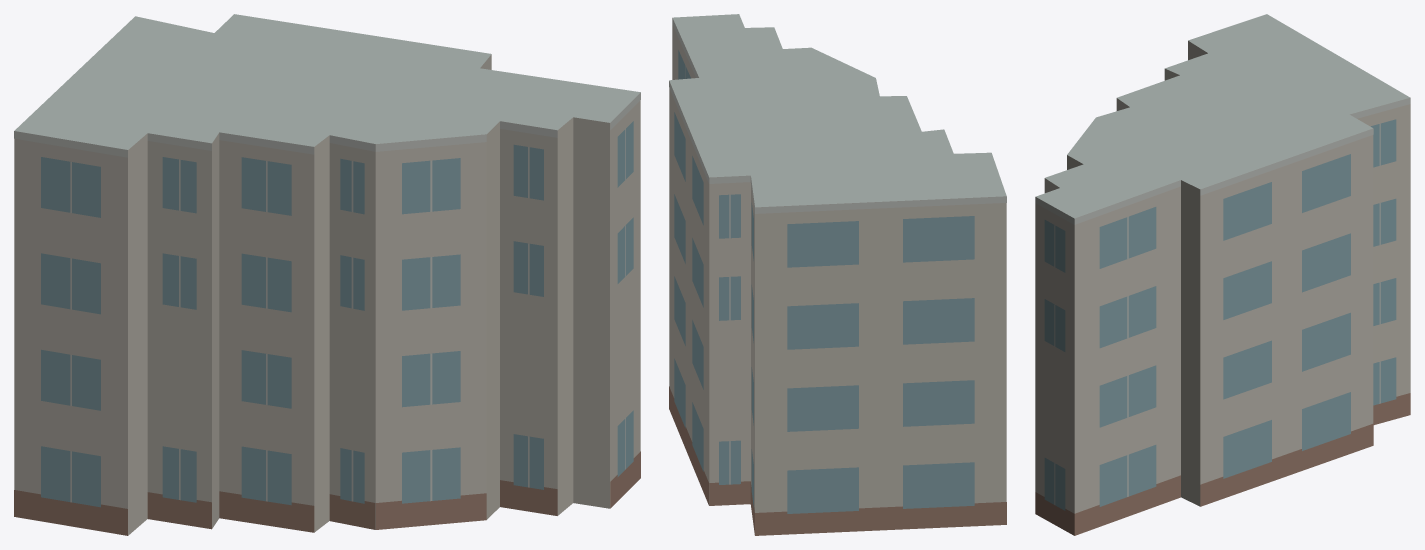
Rendered from survey-upis-32655410.glb.
3 renders of one model, left to right at view 1: azimuth 30°, elevation 25°; view 2: azimuth 150°, elevation 25°; view 3: azimuth 270°, elevation 25°, orthographic. The views are drawn at different scales.
Parts seen in each view (by area): view 1: survey-upis-32655410.tmp; view 2: survey-upis-32655410.tmp; view 3: survey-upis-32655410.tmp.
Boxes of the visible parts, x1,y1,x2,y2 form: survey-upis-32655410.tmp: (14,14,640,535); survey-upis-32655410.tmp: (669,14,1006,535); survey-upis-32655410.tmp: (1035,14,1410,535).
Size of the model in its own units: 16.87 by 12.2 by 13.08.
